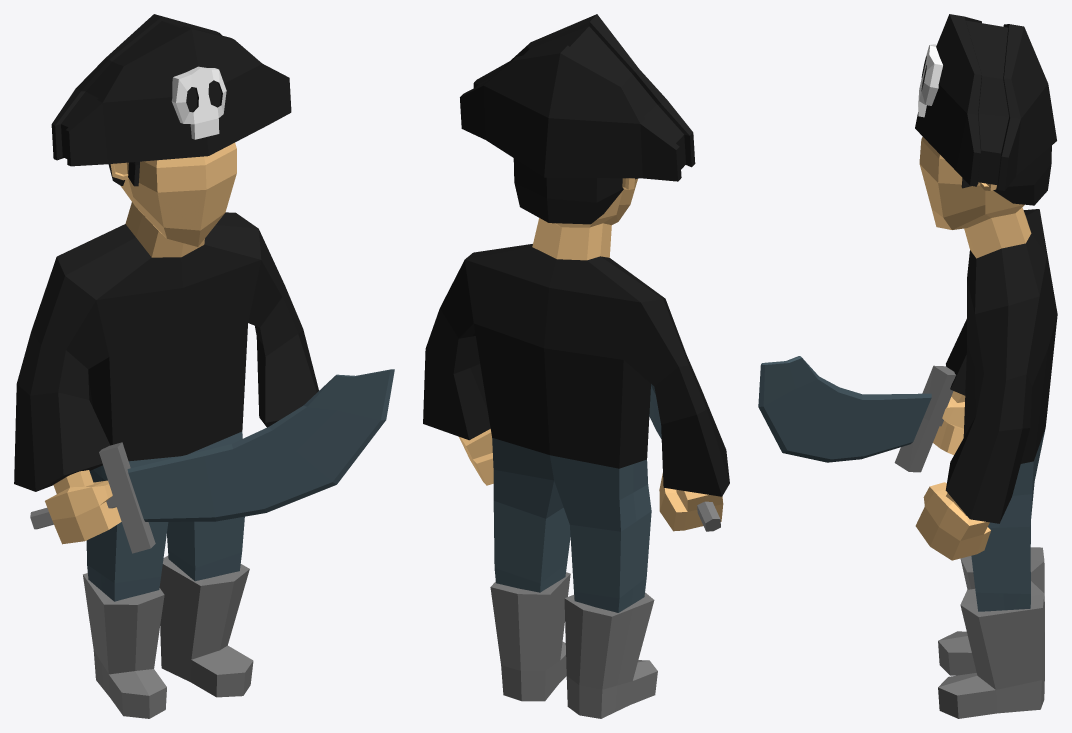
File: pirate_zeroed.obj
The picture shows the model from 3 angles, left to right: view 1: azimuth 30°, elevation 25°; view 2: azimuth 150°, elevation 25°; view 3: azimuth 270°, elevation 25°; orthographic projection.
Visible parts, largest first — view 1: pirate_zeroed; view 2: pirate_zeroed; view 3: pirate_zeroed.
Boxes of the visible parts, x1,y1,x2,y2 form: pirate_zeroed: [14, 14, 394, 718]; pirate_zeroed: [423, 14, 729, 718]; pirate_zeroed: [758, 14, 1057, 718].
Bounding box in the file's own units: 0.4789 × 1.01 × 0.4081.
